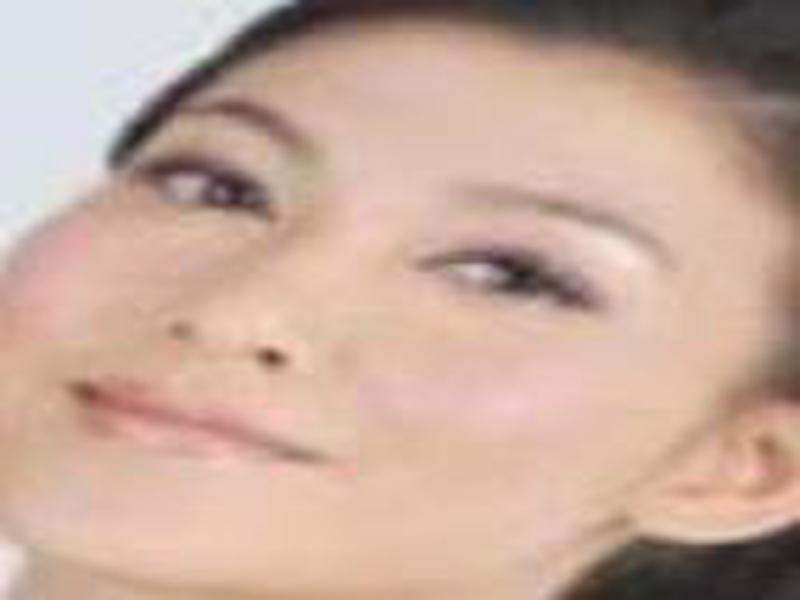without_mask: (10, 29, 782, 599)
